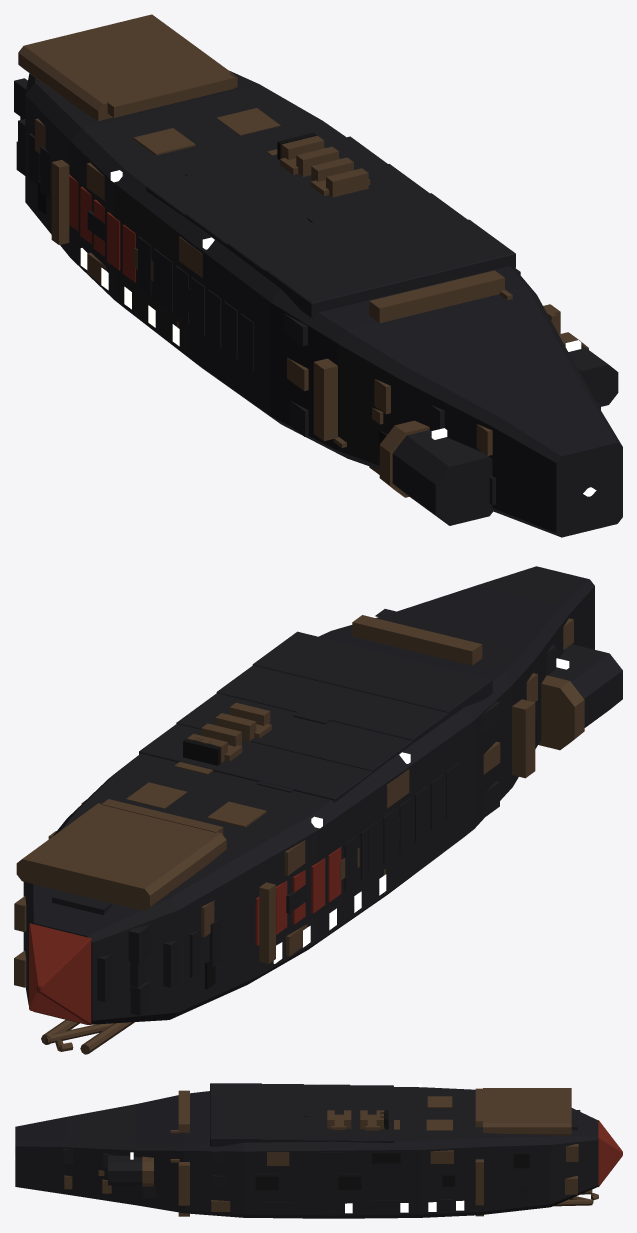
3 renders of one model, top to bottom at view 1: azimuth 30°, elevation 25°; view 2: azimuth 150°, elevation 25°; view 3: azimuth 270°, elevation 25°, orthographic. The views are drawn at different scales.
Parts seen in each view (by area): view 1: RIMWARD_HULL, RIMWARD_EMISSIVE; view 2: RIMWARD_HULL, RIMWARD_EMISSIVE; view 3: RIMWARD_HULL, RIMWARD_EMISSIVE.
Boxes of the visible parts, x1=… form: RIMWARD_HULL: x1=14, y1=14, x2=622, y2=537; RIMWARD_EMISSIVE: x1=80, y1=170, x2=581, y2=439; RIMWARD_HULL: x1=14, y1=566, x2=622, y2=1054; RIMWARD_EMISSIVE: x1=273, y1=615, x2=569, y2=963; RIMWARD_HULL: x1=15, y1=1083, x2=622, y2=1218; RIMWARD_EMISSIVE: x1=130, y1=1083, x2=464, y2=1213.
Bounding box in the file's own units: 1.85 × 1.35 × 7.42.
